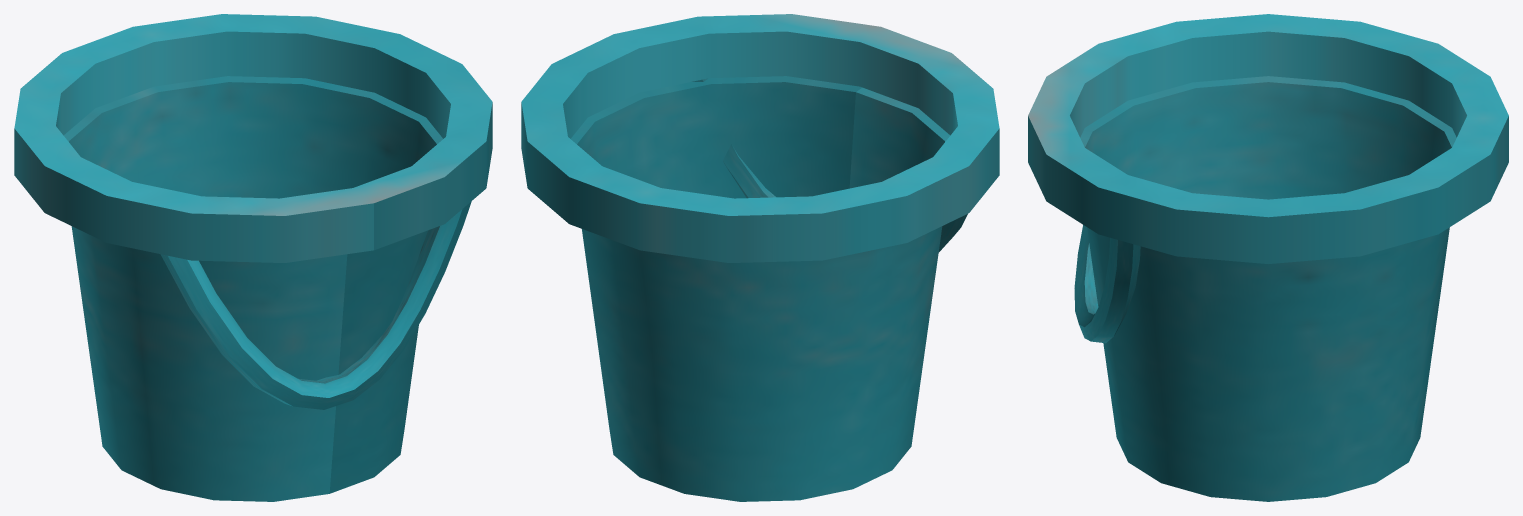
The model's file is bucket.fbx.
3 renders of one model, left to right at view 1: azimuth 30°, elevation 25°; view 2: azimuth 150°, elevation 25°; view 3: azimuth 270°, elevation 25°, orthographic.
Parts seen in each view (by area): view 1: Cylinder; view 2: Cylinder; view 3: Cylinder.
Part boxes in pixels (left/top/right/bottom): Cylinder: left=14, top=14, right=492, bottom=501; Cylinder: left=521, top=14, right=999, bottom=501; Cylinder: left=1028, top=14, right=1508, bottom=501.
Bounding box in the file's own units: 9873 × 7299 × 9873.
